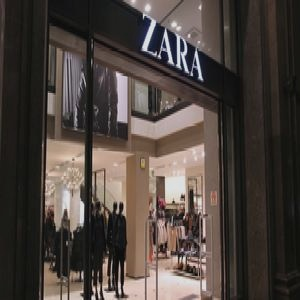zara: (154, 55, 294, 62)
